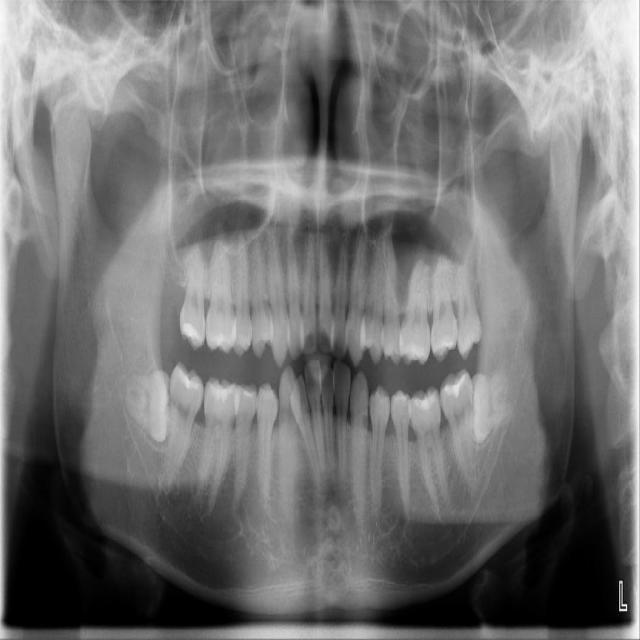52: (159, 358, 214, 423), (431, 367, 482, 427), (178, 299, 208, 353)
73: (608, 579, 617, 595)
BioHorizons Implant: (429, 253, 461, 363)
BioLife Implant: (456, 262, 483, 360)
Biomet 3i Implant: (467, 372, 515, 447)
Blue Sky Bio Implant: (436, 369, 483, 495)
Caries: (178, 223, 206, 351)
Implant: (165, 360, 206, 491)
Keystone Dental Implant: (122, 368, 173, 446)
